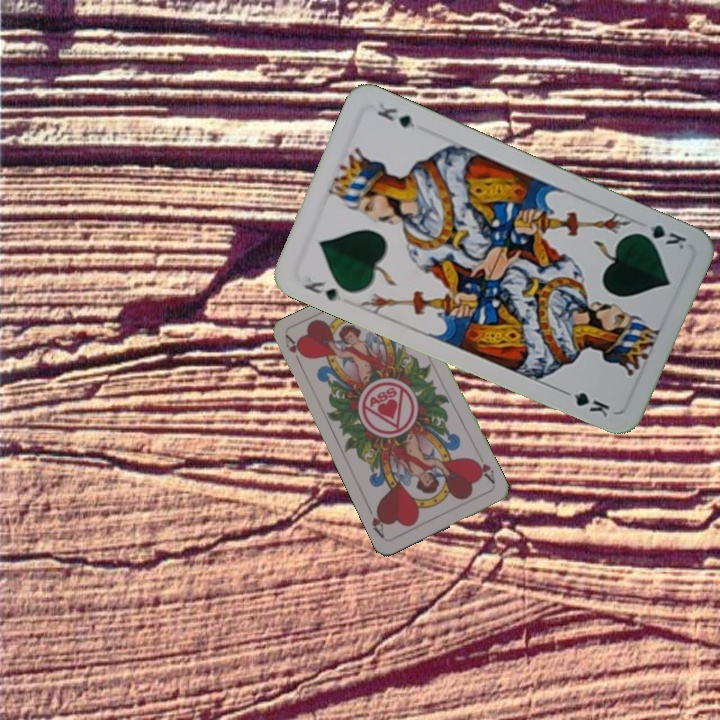GK: (632, 220, 691, 252), (300, 276, 346, 304)
HA: (469, 450, 498, 487), (281, 332, 308, 371)
